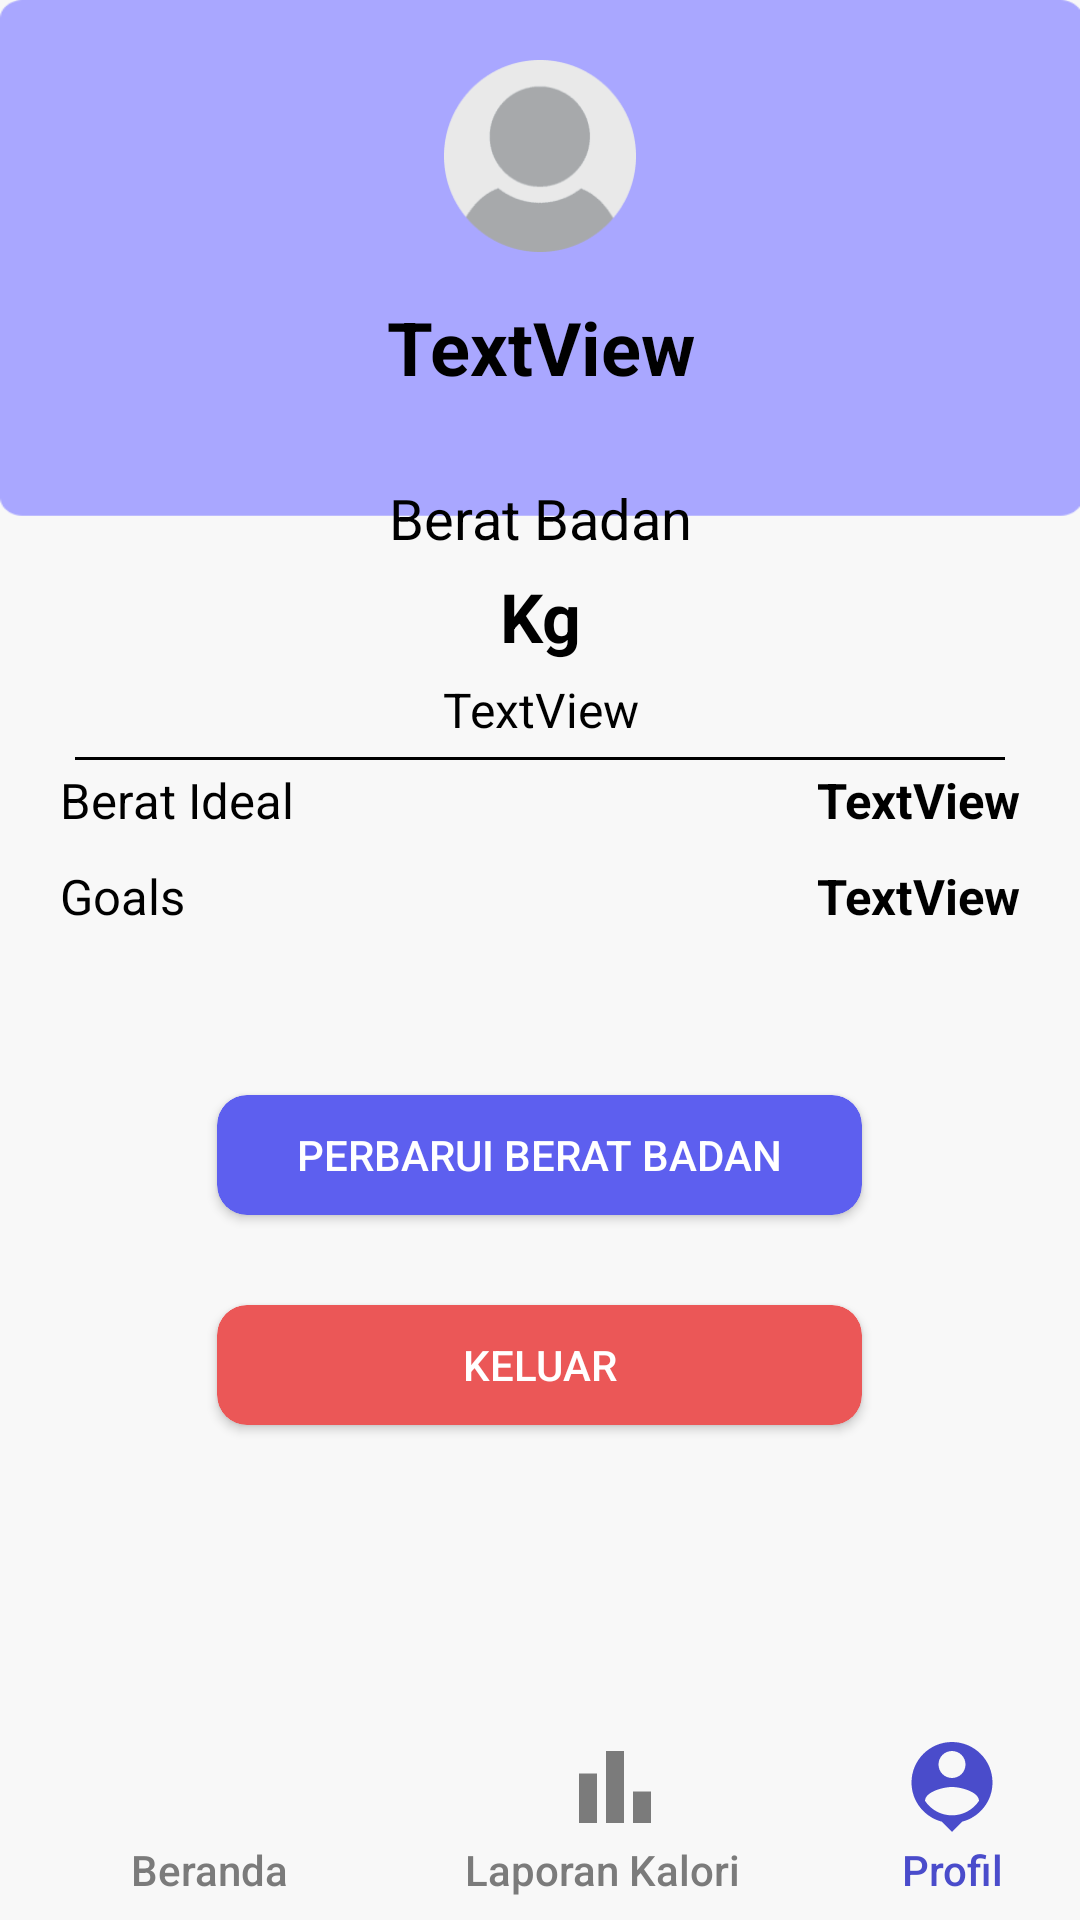

Icon click points for this 1080w x 1920h phone screenshot, format [x,y]:
bar chart: [615,1787]
person pin: [952,1787]
